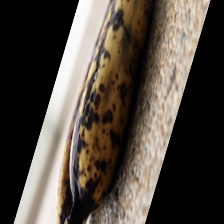banana: (44, 42, 207, 205)
